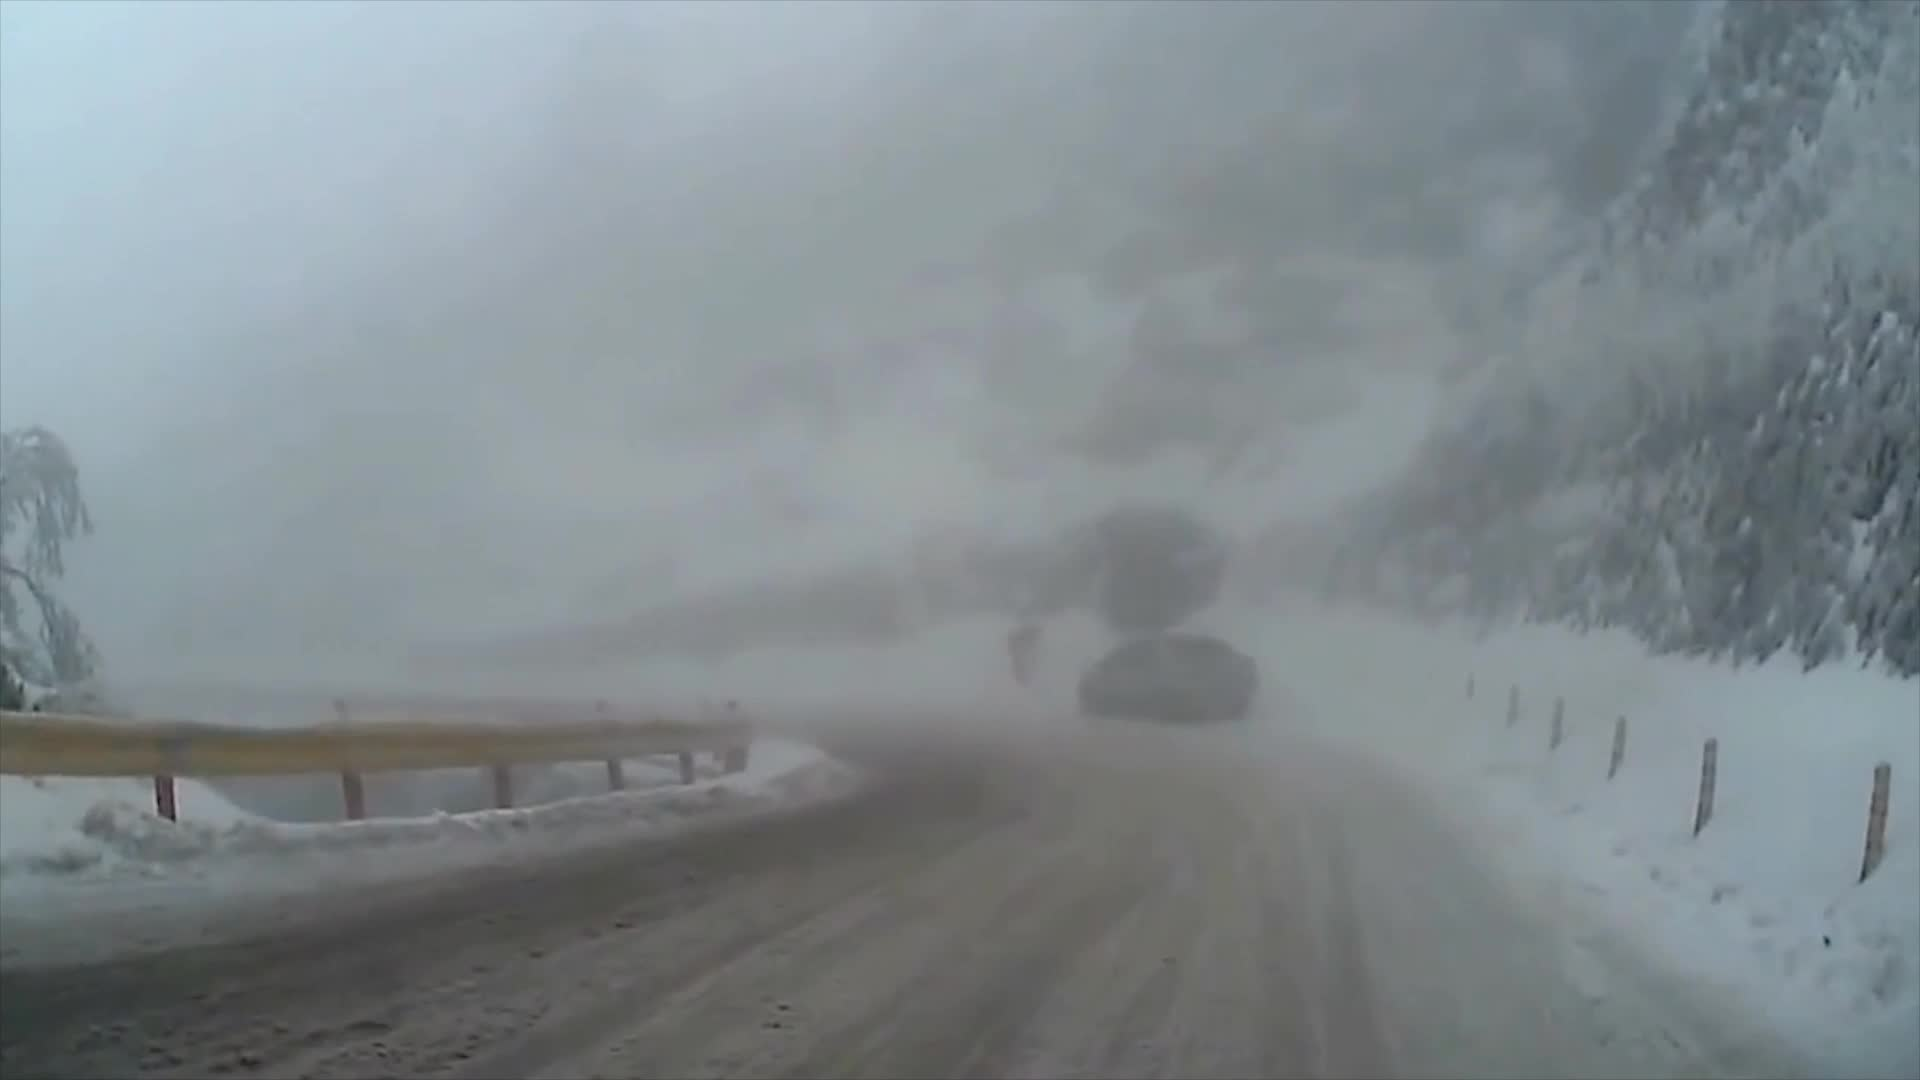pedestrian: (1005, 623, 1042, 688)
vehicle: (1077, 633, 1256, 722)
